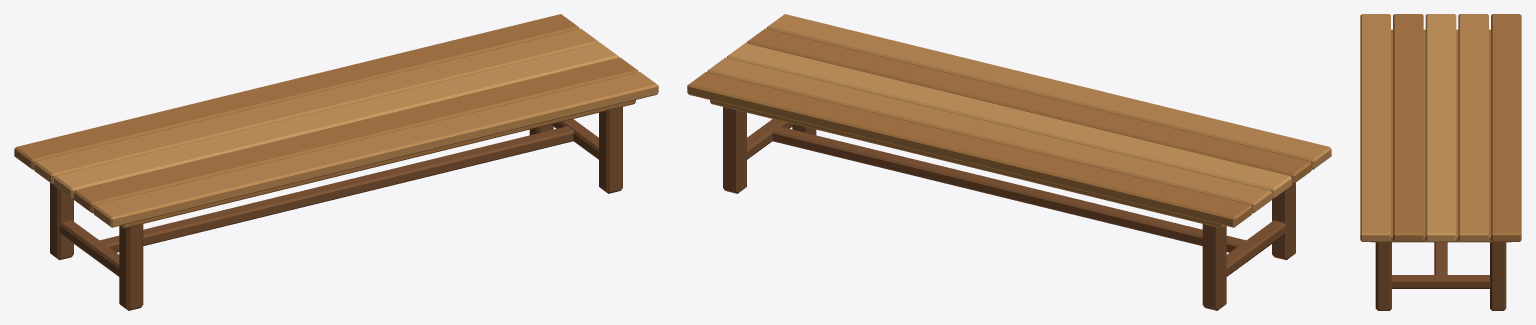
File: sketch_table.glb
3 views of the same model, side by side, from view 1: azimuth 30°, elevation 25°; view 2: azimuth 150°, elevation 25°; view 3: azimuth 270°, elevation 25° (orthographic). The views are drawn at different scales.
Visible parts, largest first — view 1: sketch_table; view 2: sketch_table; view 3: sketch_table.
Boxes of the visible parts, bbox=[...] form: sketch_table: bbox=[14, 14, 658, 310]; sketch_table: bbox=[687, 14, 1331, 310]; sketch_table: bbox=[1360, 14, 1521, 310].
Bounding box in the file's own units: 3.2 × 0.6 × 0.988.
